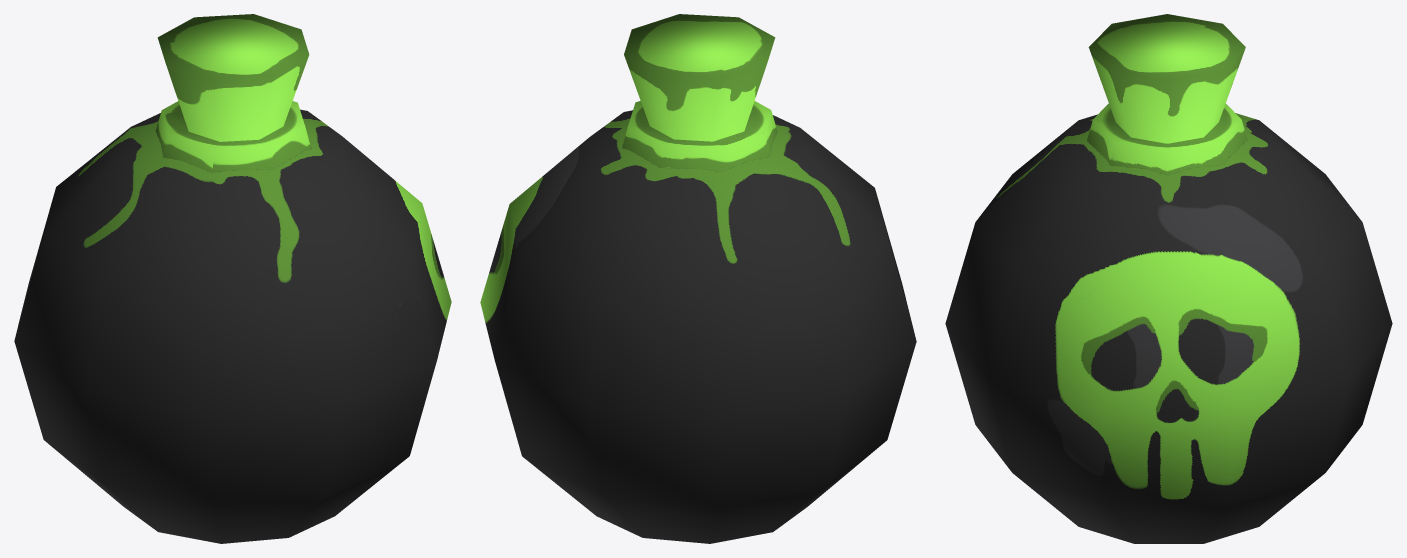
File: bomb.glb
3 views of the same model, side by side, from view 1: azimuth 30°, elevation 25°; view 2: azimuth 150°, elevation 25°; view 3: azimuth 270°, elevation 25° (orthographic).
Parts seen in each view (by area): view 1: Sphere; view 2: Sphere; view 3: Sphere.
Boxes of the visible parts, <box> form: Sphere: <box>14,14,451,543</box>; Sphere: <box>480,14,916,543</box>; Sphere: <box>945,14,1392,543</box>.
Size of the model in its own units: 1.9 by 2.36 by 2.
2 materials, 2 textured.
